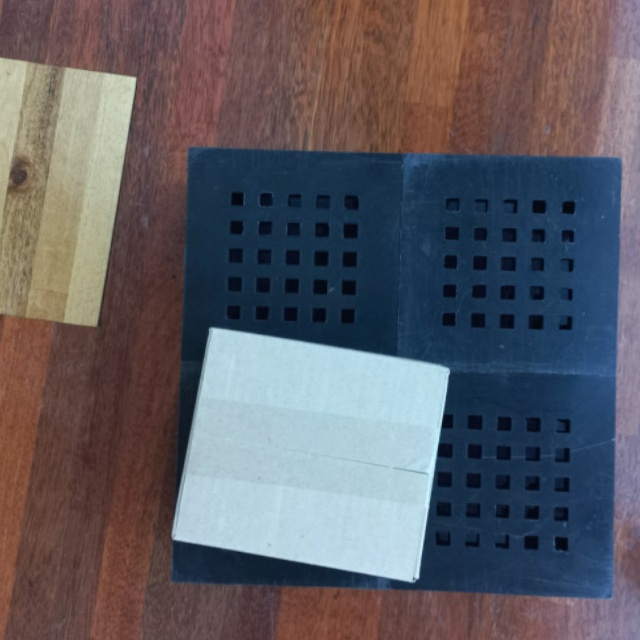box: (170, 326, 448, 585)
pallet: (172, 141, 627, 605)
